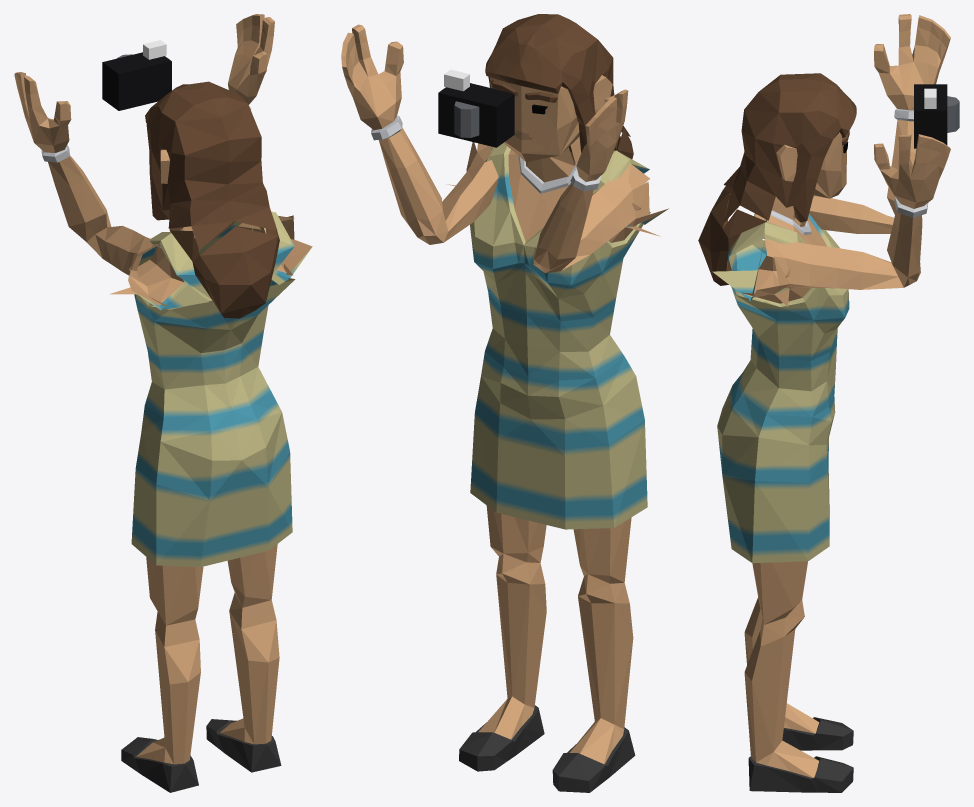
File: Cousin_Camera.obj
3 views of the same model, side by side, from view 1: azimuth 30°, elevation 25°; view 2: azimuth 150°, elevation 25°; view 3: azimuth 270°, elevation 25° (orthographic). The views are drawn at different scales.
Visible parts, largest first — view 1: Cousin_Camera; view 2: Cousin_Camera; view 3: Cousin_Camera.
Part boxes in pixels (<box>): Cousin_Camera: <box>14,14,312,792</box>; Cousin_Camera: <box>341,14,668,792</box>; Cousin_Camera: <box>698,14,959,792</box>.
Size of the model in its own units: 0.6956 by 1.82 by 0.6274.
2 materials, 2 textured.
